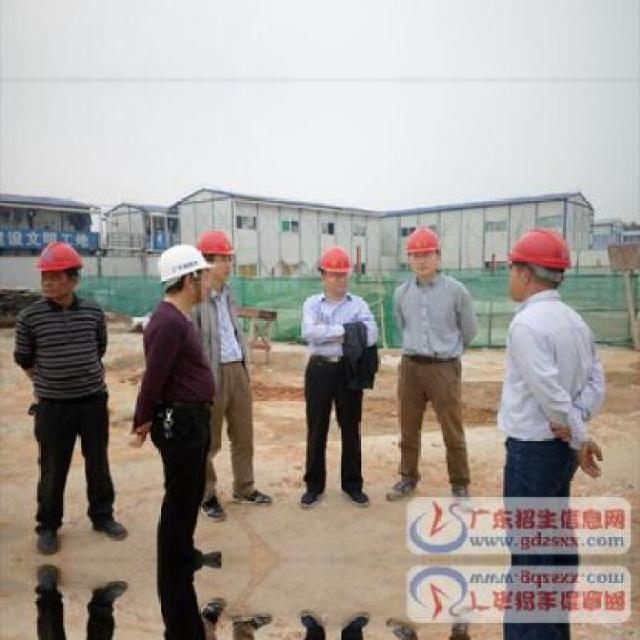helmet: (499, 224, 572, 298), (154, 240, 212, 314), (34, 239, 86, 299), (194, 226, 234, 288), (313, 243, 355, 295), (404, 227, 444, 281)
